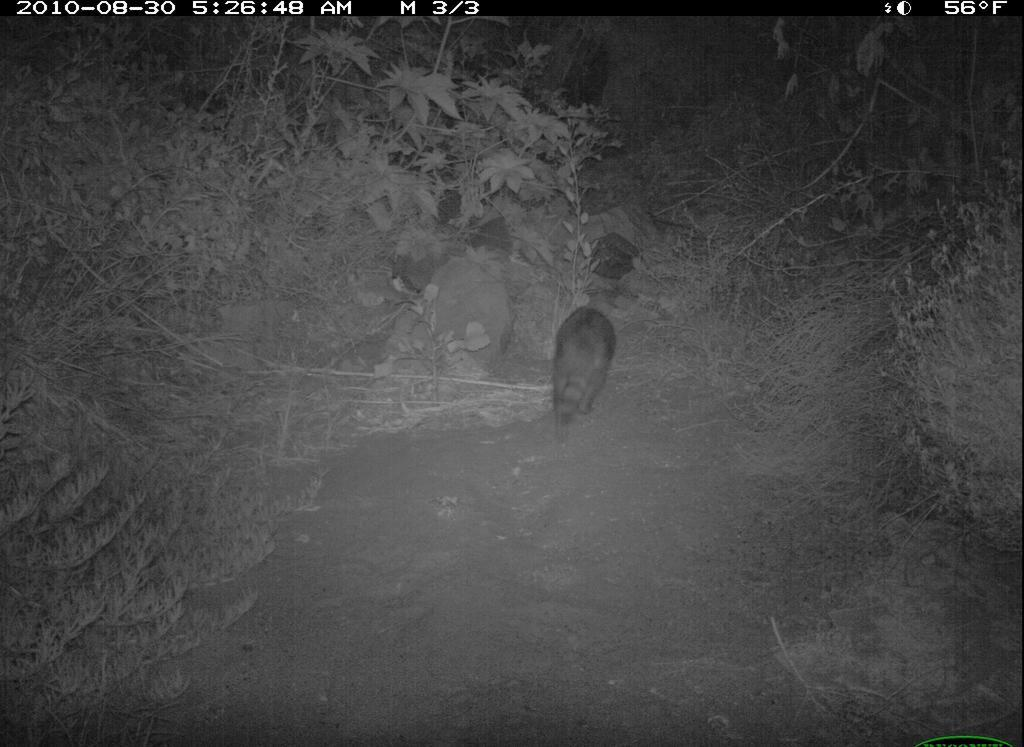raccoon: (543, 300, 628, 427)
